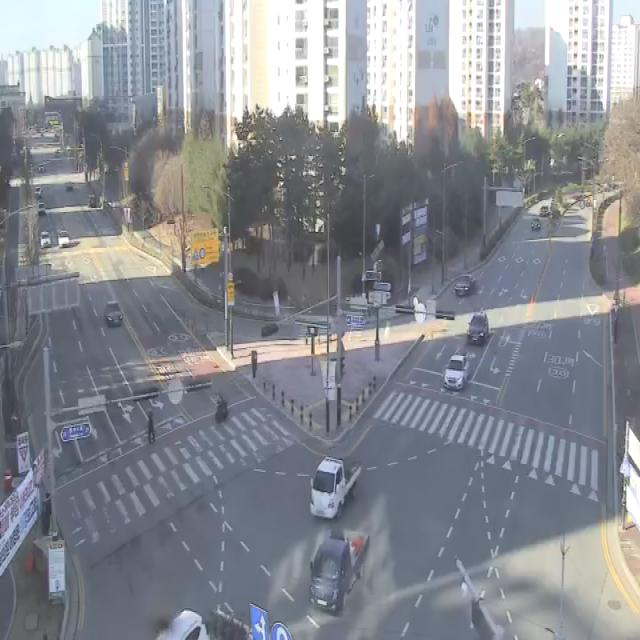Car: (444, 355, 471, 390), (467, 313, 489, 346), (104, 301, 123, 328), (455, 274, 477, 297), (57, 230, 70, 248), (39, 230, 51, 248)
Motorcycle: (209, 380, 232, 431)
Truck: (308, 536, 370, 615), (310, 454, 362, 520)
